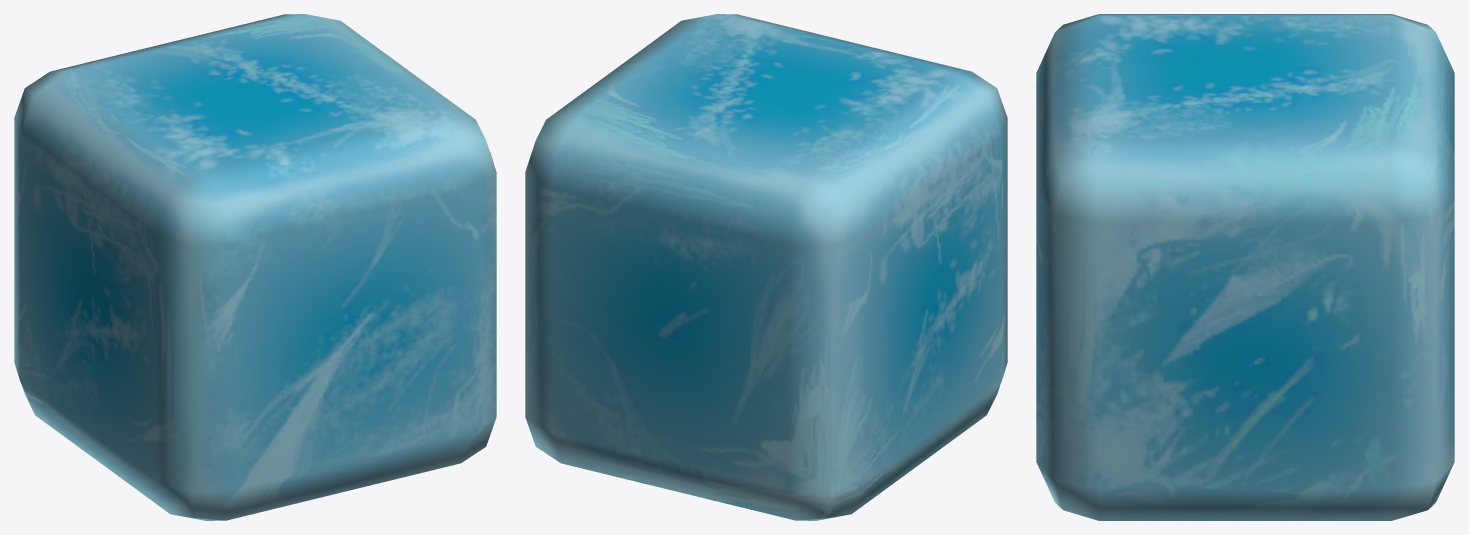
The model's file is 0-ice.fbx.
The picture shows the model from 3 angles, left to right: view 1: azimuth 30°, elevation 25°; view 2: azimuth 150°, elevation 25°; view 3: azimuth 270°, elevation 25°; orthographic projection. The views are drawn at different scales.
Visible parts, largest first — view 1: 0-ice; view 2: 0-ice; view 3: 0-ice.
Boxes of the visible parts, x1,y1,x2,y2 form: 0-ice: (14, 14, 496, 520); 0-ice: (525, 14, 1007, 520); 0-ice: (1036, 14, 1454, 520).
Size of the model in its own units: 100 by 100 by 100.
